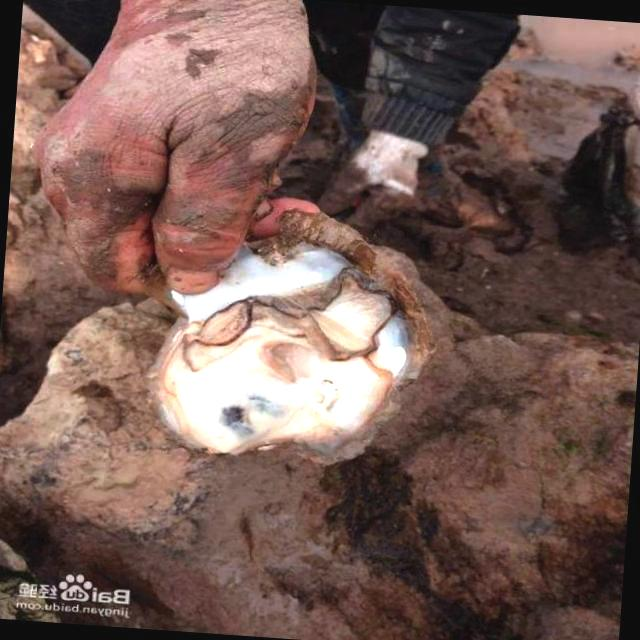Oyster-Open: (154, 215, 422, 459)
